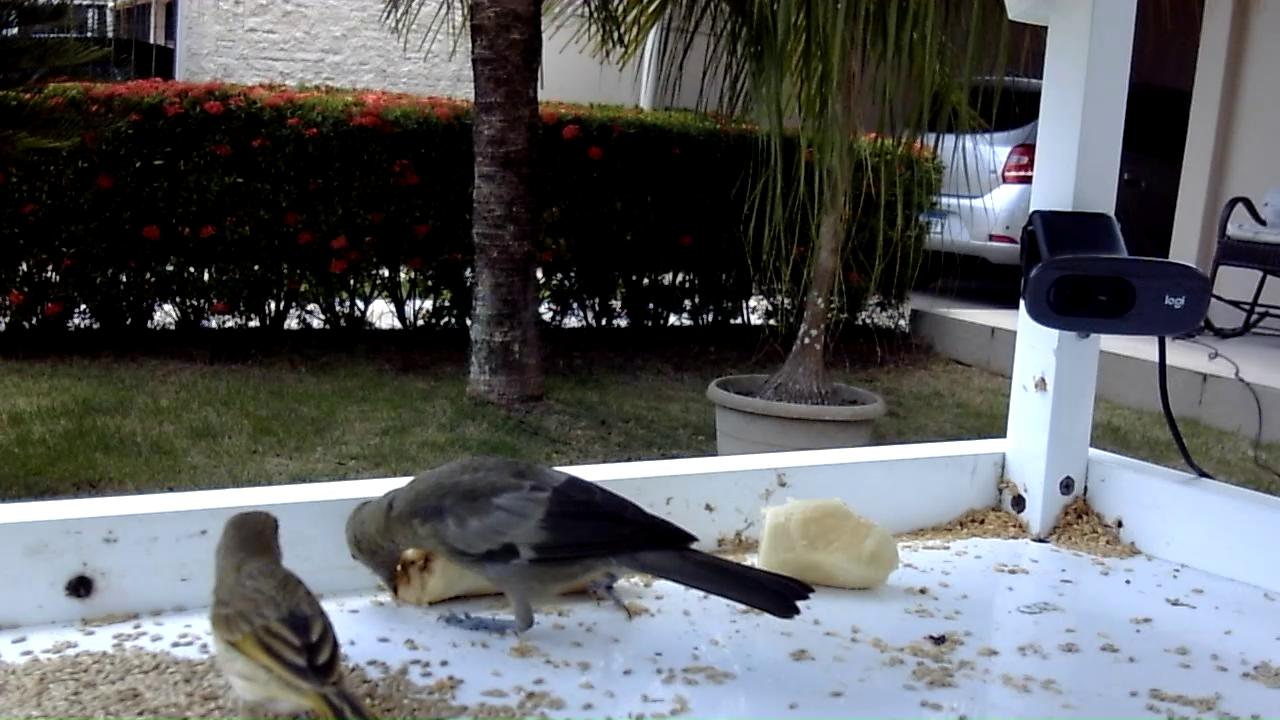canario_do_amazonas: (211, 512, 379, 720)
sanhaco_do_coqueiro: (346, 455, 817, 640)
